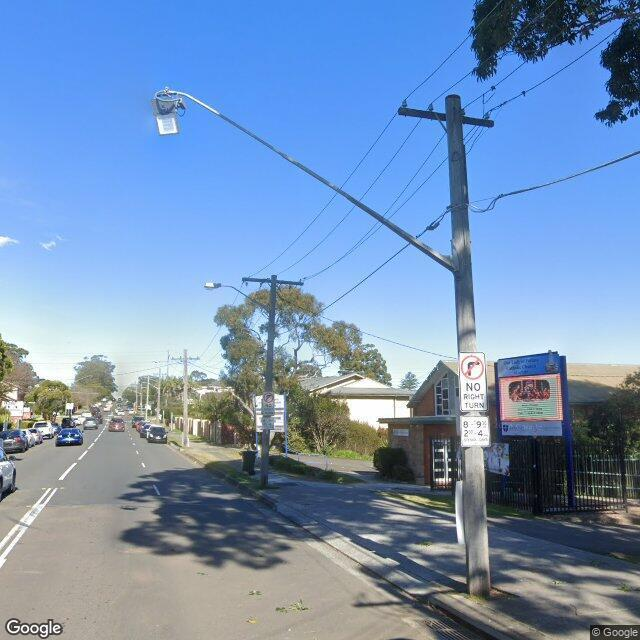crossarm: (398, 106, 496, 128), (242, 274, 306, 287), (172, 357, 200, 361)
streetlight: (205, 282, 270, 312)
timber-pole: (151, 89, 455, 269), (445, 94, 492, 596), (260, 274, 278, 486), (182, 349, 190, 447), (156, 368, 162, 424), (145, 375, 150, 421)
